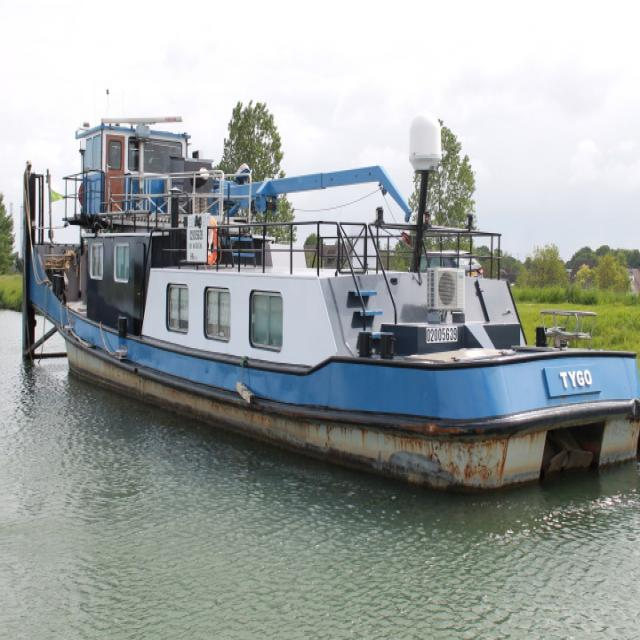tugboat: (16, 114, 640, 501)
